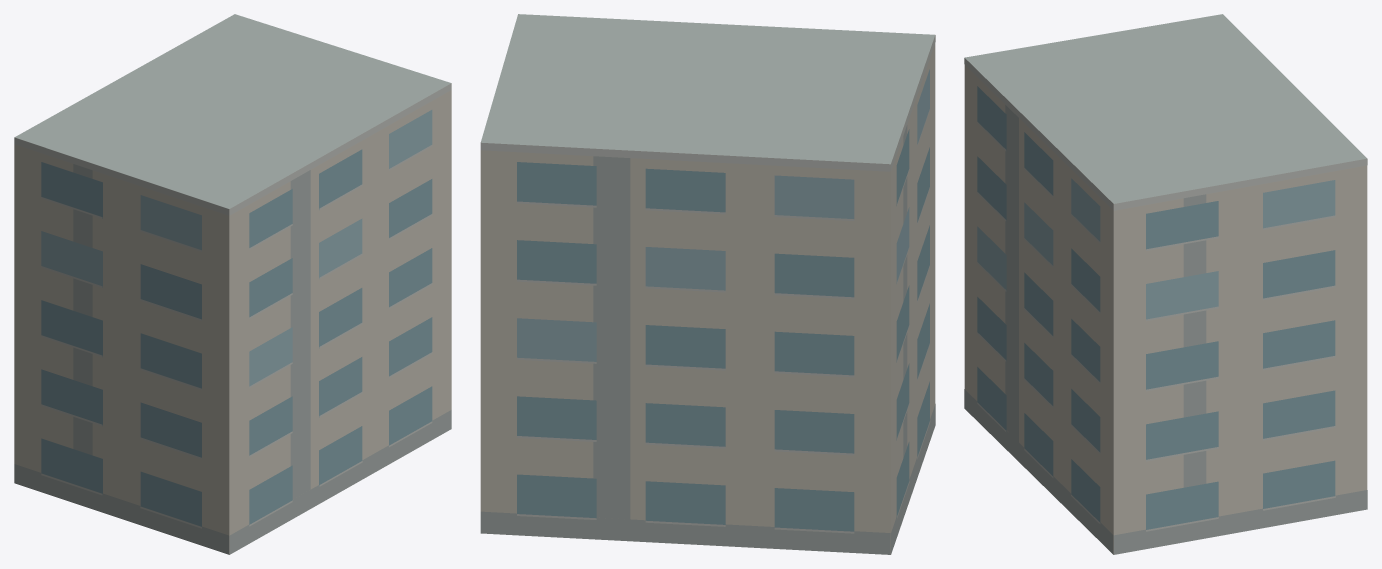
The model's file is survey-upis-32848345.glb.
3 views of the same model, side by side, from view 1: azimuth 30°, elevation 25°; view 2: azimuth 150°, elevation 25°; view 3: azimuth 270°, elevation 25° (orthographic). The views are drawn at different scales.
Parts seen in each view (by area): view 1: survey-upis-32848345.tmp; view 2: survey-upis-32848345.tmp; view 3: survey-upis-32848345.tmp.
Boxes of the visible parts, left/top/right/bottom form: survey-upis-32848345.tmp: left=14, top=14, right=451, bottom=554; survey-upis-32848345.tmp: left=480, top=14, right=935, bottom=554; survey-upis-32848345.tmp: left=964, top=14, right=1367, bottom=554.
Size of the model in its own units: 14.64 by 12.6 by 13.13.
